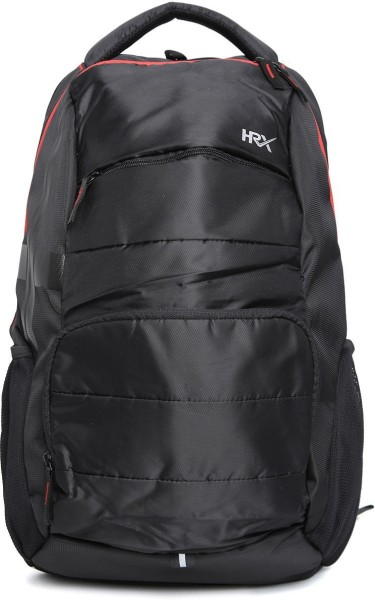backpack: (0, 1, 371, 586)
